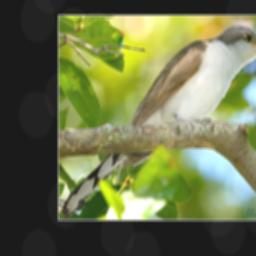Cuckoo: (58, 23, 256, 218)
